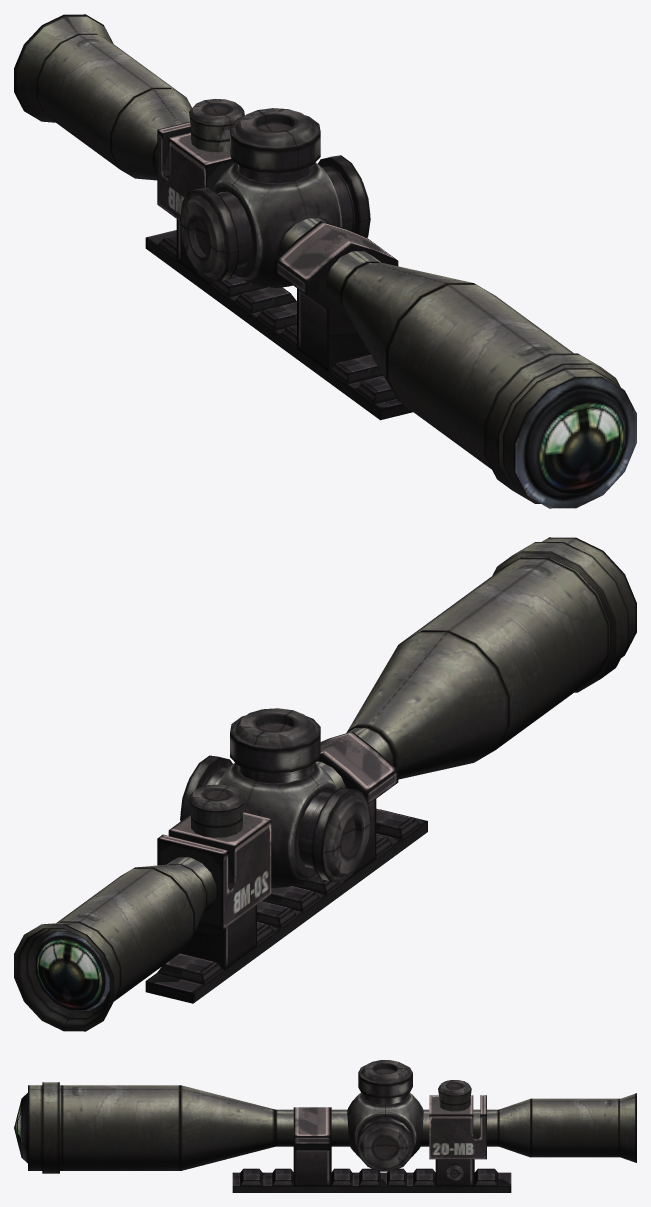
The model's file is SniperRifle_Warfare_Scope_3.FBX.
The picture shows the model from 3 angles, top to bottom: view 1: azimuth 30°, elevation 25°; view 2: azimuth 150°, elevation 25°; view 3: azimuth 270°, elevation 25°; orthographic projection. The views are drawn at different scales.
Parts seen in each view (by area): view 1: mesh_scope; view 2: mesh_scope; view 3: mesh_scope.
Boxes of the visible parts, box(x1,y1,x2,y2) form: mesh_scope: box(14, 14, 636, 508); mesh_scope: box(14, 537, 636, 1031); mesh_scope: box(14, 1060, 636, 1192).
Size of the model in its own units: 0.0861 by 0.1064 by 0.5122.
